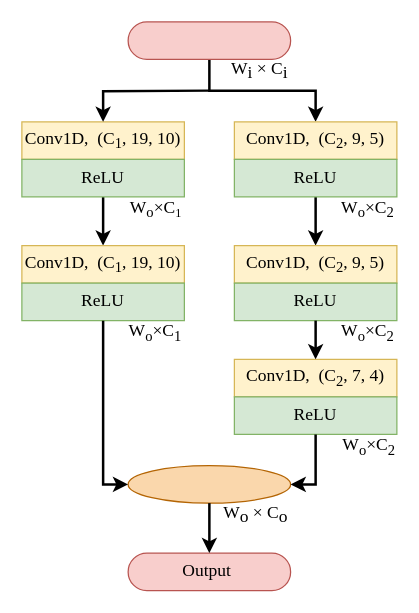
This 419x613 diagram has some shape labels left out. Here are the shapes that lost their labels. From the top down, the centre of each, then its label:
At (209,40): "Input".
At (209,483): "Concatenate".
